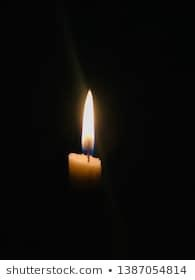fire: (79, 86, 96, 153)
